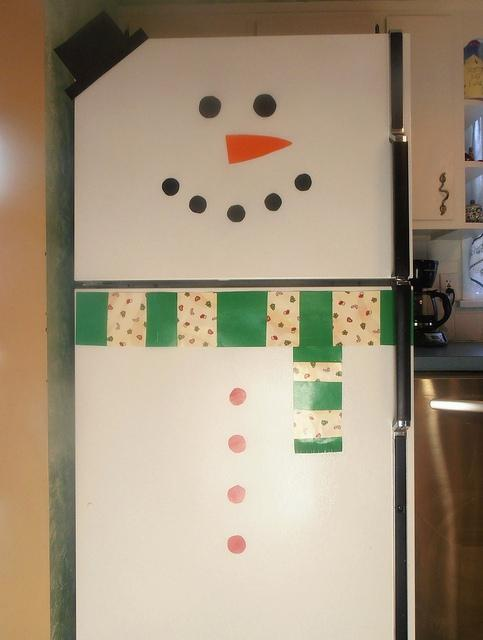carrot: (226, 135, 292, 164)
